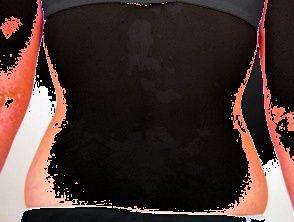vitiligo: (48, 122, 215, 201), (101, 7, 195, 119), (142, 0, 195, 24)
